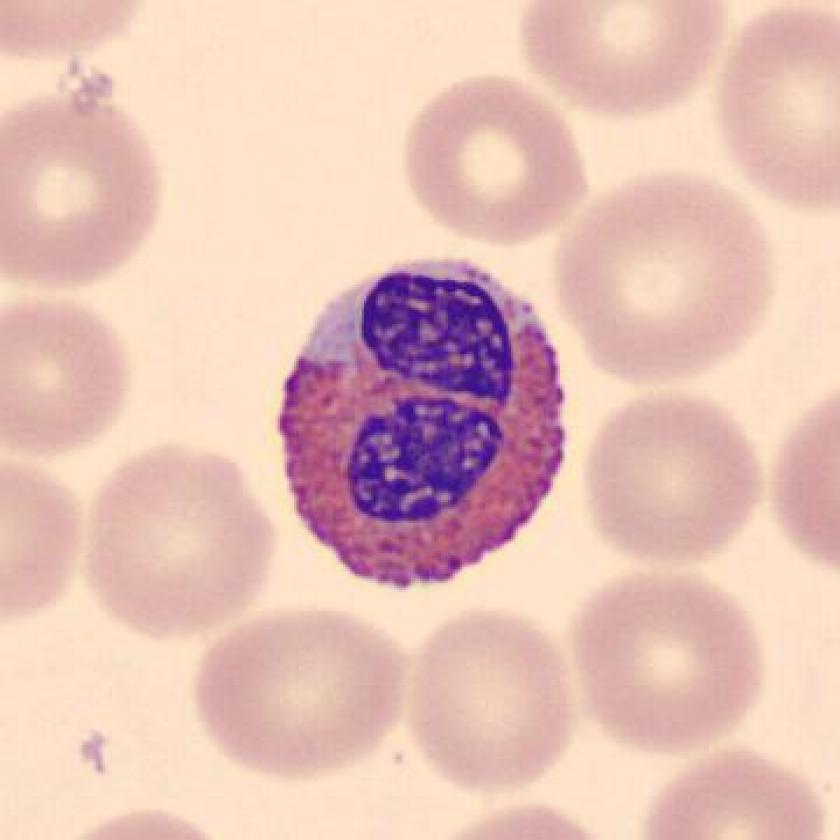eosinophil: (262, 244, 580, 598)
